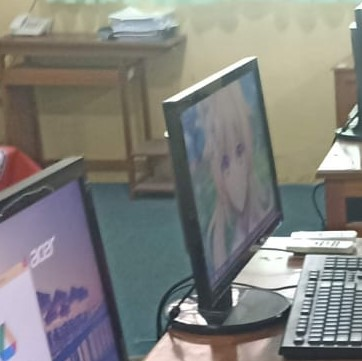monitor: (161, 56, 284, 329), (0, 154, 129, 356)
